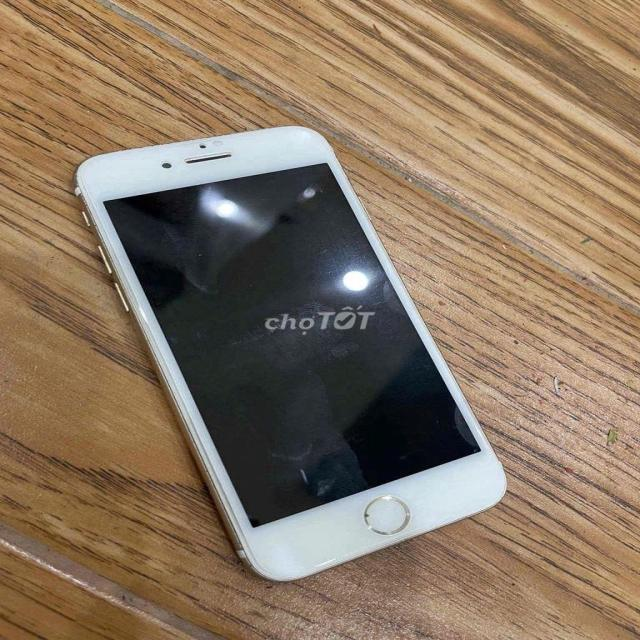scratch: (147, 360, 240, 529), (112, 130, 266, 150), (361, 510, 382, 518)
